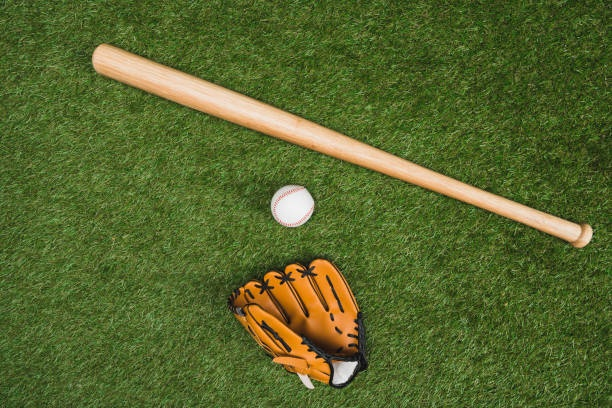bita: (91, 44, 592, 249)
